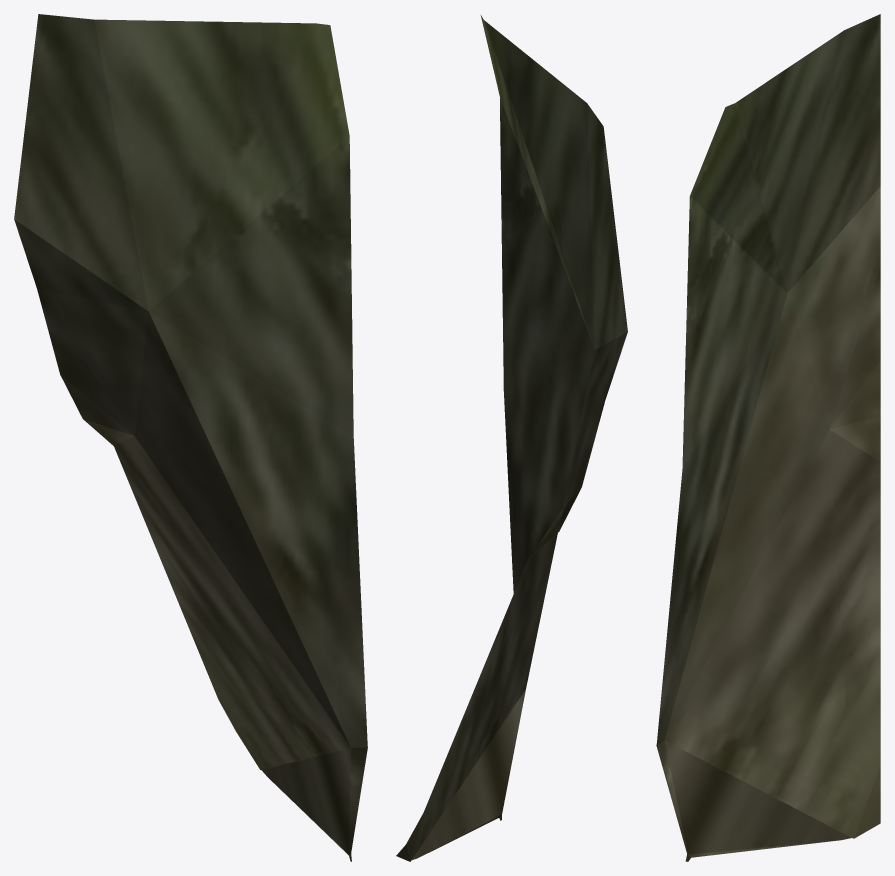
3 views of the same model, side by side, from view 1: azimuth 30°, elevation 25°; view 2: azimuth 150°, elevation 25°; view 3: azimuth 270°, elevation 25° (orthographic). The views are drawn at different scales.
Size of the model in its own units: 0.5443 by 1.84 by 0.4958.
Materials: 1 (1 with a texture image).
